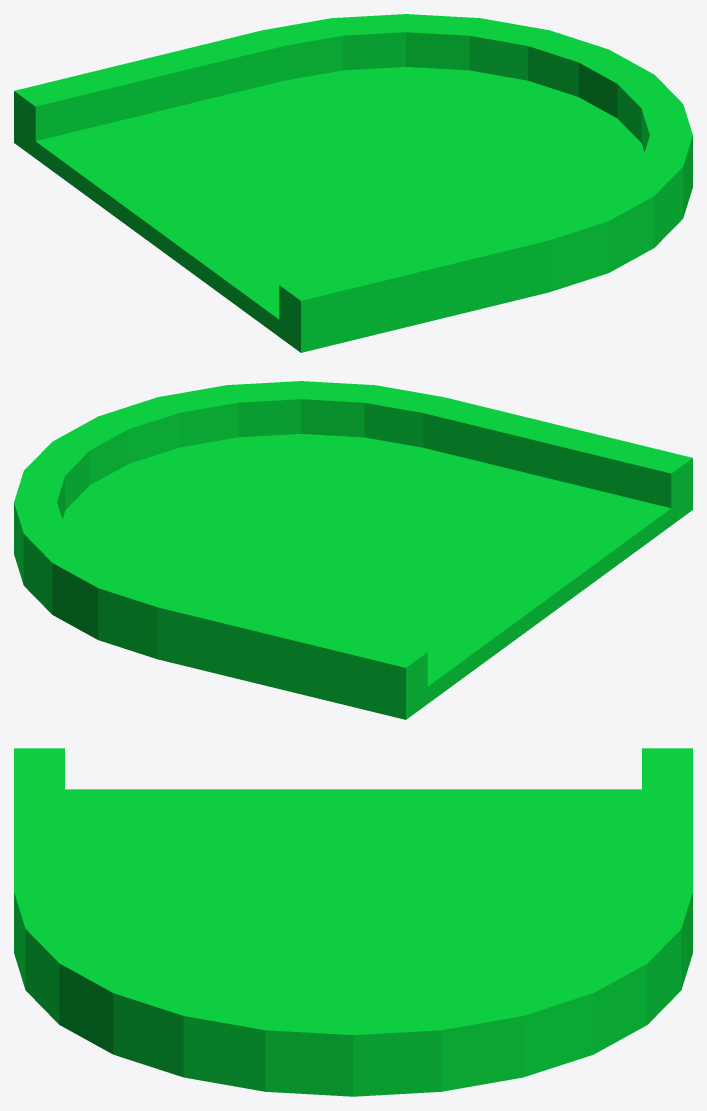
Rendered from end.fbx.
3 renders of one model, top to bottom at view 1: azimuth 30°, elevation 25°; view 2: azimuth 150°, elevation 25°; view 3: azimuth 270°, elevation 25°, orthographic. The views are drawn at different scales.
Parts seen in each view (by area): view 1: Cube; view 2: Cube; view 3: Cube.
Boxes of the visible parts, x1,y1,x2,y2 form: Cube: (14,14,692,352); Cube: (14,381,692,719); Cube: (14,748,692,1096).
Bounding box in the file's own units: 3000 × 300 × 3000.
